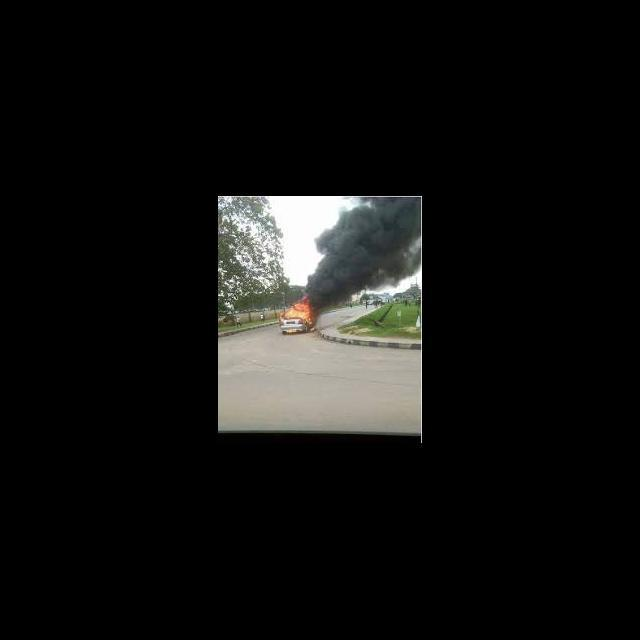Fire: (282, 296, 312, 322)
Smoke: (306, 198, 421, 291)
